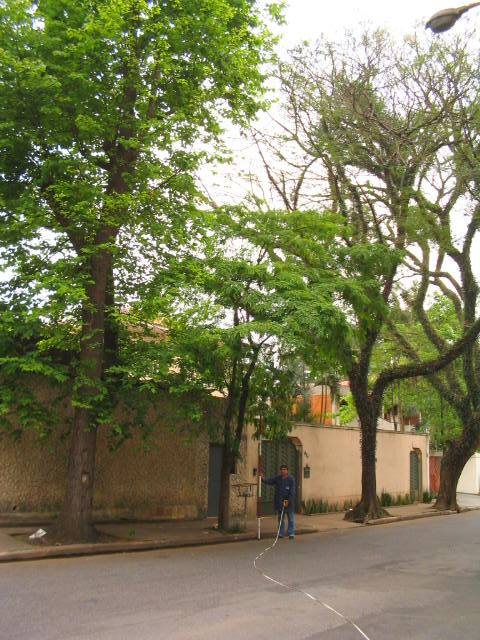crown: (4, 3, 274, 407), (121, 181, 398, 443)
stem: (40, 265, 118, 540), (340, 408, 395, 520), (209, 467, 238, 533)
stick: (251, 413, 265, 540)
tree: (2, 1, 277, 542), (257, 24, 478, 519), (119, 179, 400, 534)
